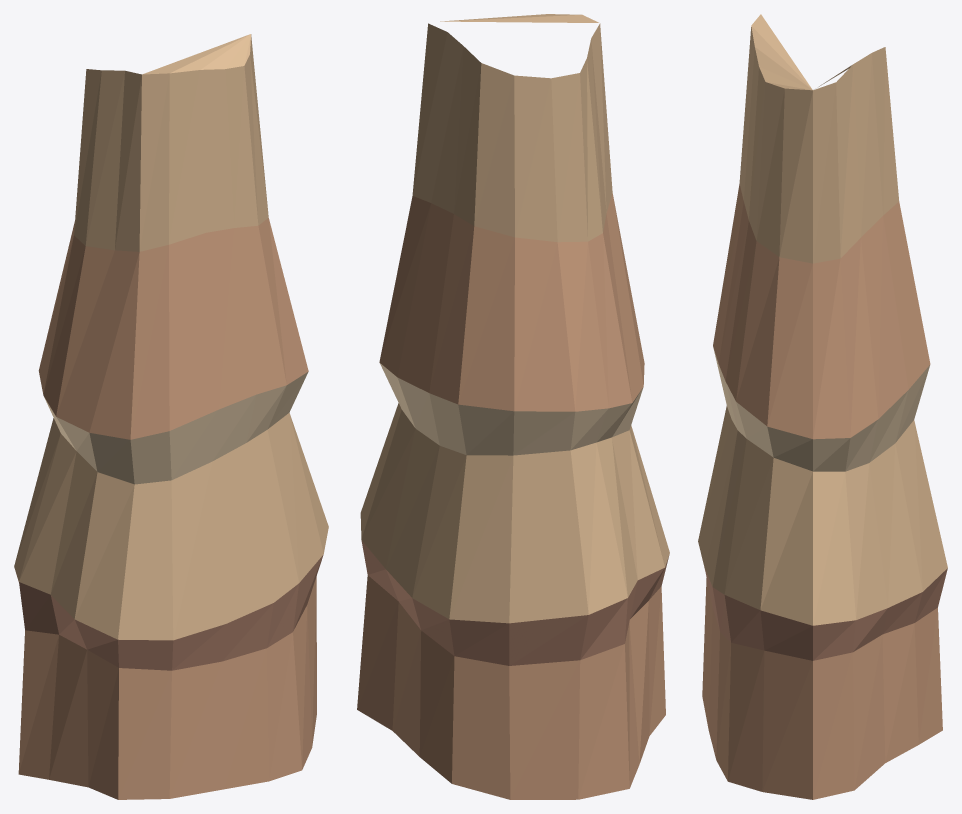
File: sandstone-1.glb
3 views of the same model, side by side, from view 1: azimuth 30°, elevation 25°; view 2: azimuth 150°, elevation 25°; view 3: azimuth 270°, elevation 25° (orthographic). The views are drawn at different scales.
Bounding box in the file's own units: 20.28 × 47.97 × 15.53.
